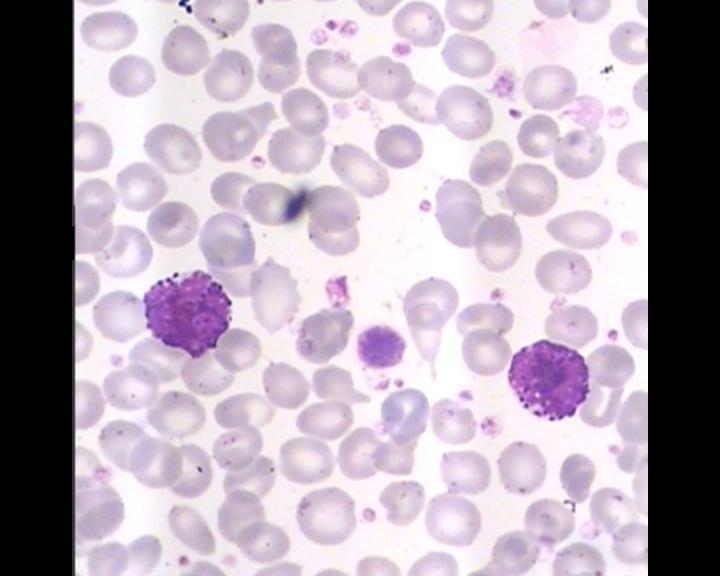baso: (137, 269, 238, 360), (499, 334, 592, 424)
